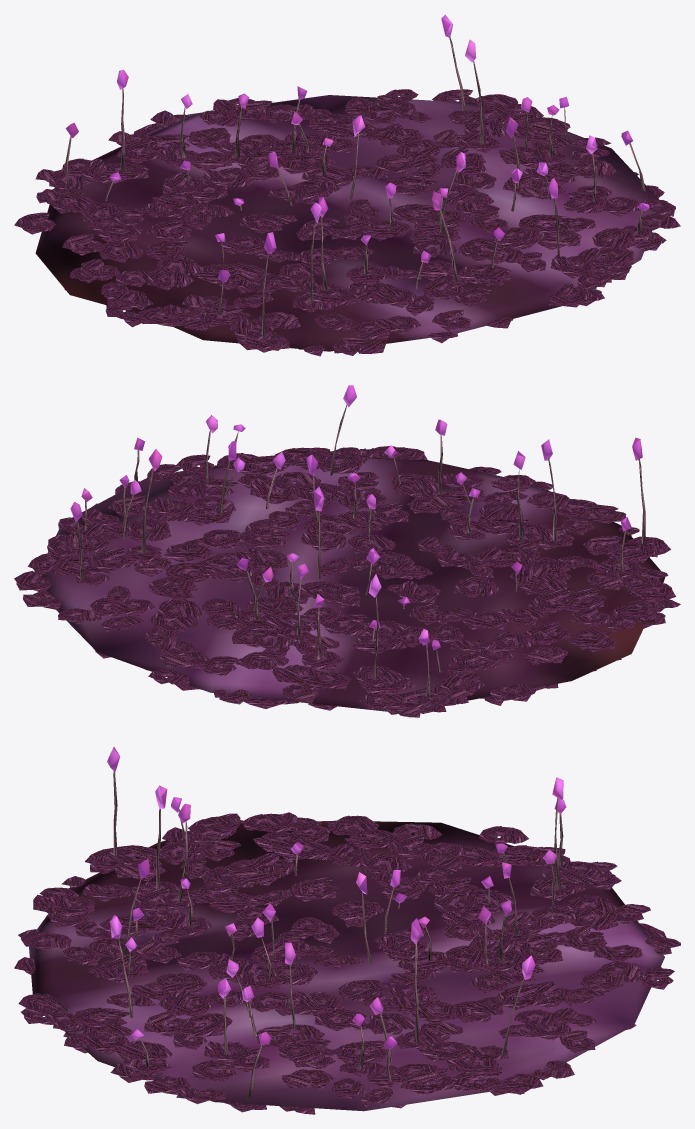
Rendered from moss_03.glb.
3 renders of one model, top to bottom at view 1: azimuth 30°, elevation 25°; view 2: azimuth 150°, elevation 25°; view 3: azimuth 270°, elevation 25°, orthographic. The views are drawn at different scales.
Parts seen in each view (by area): view 1: export; view 2: export; view 3: export.
Part boxes in pixels (bbox=[...]): export: bbox=[14, 14, 680, 356]; export: bbox=[14, 385, 680, 717]; export: bbox=[14, 747, 680, 1114].
Bounding box in the file's own units: 2.01 × 0.4707 × 1.92.
Materials: 3 (3 with a texture image).
